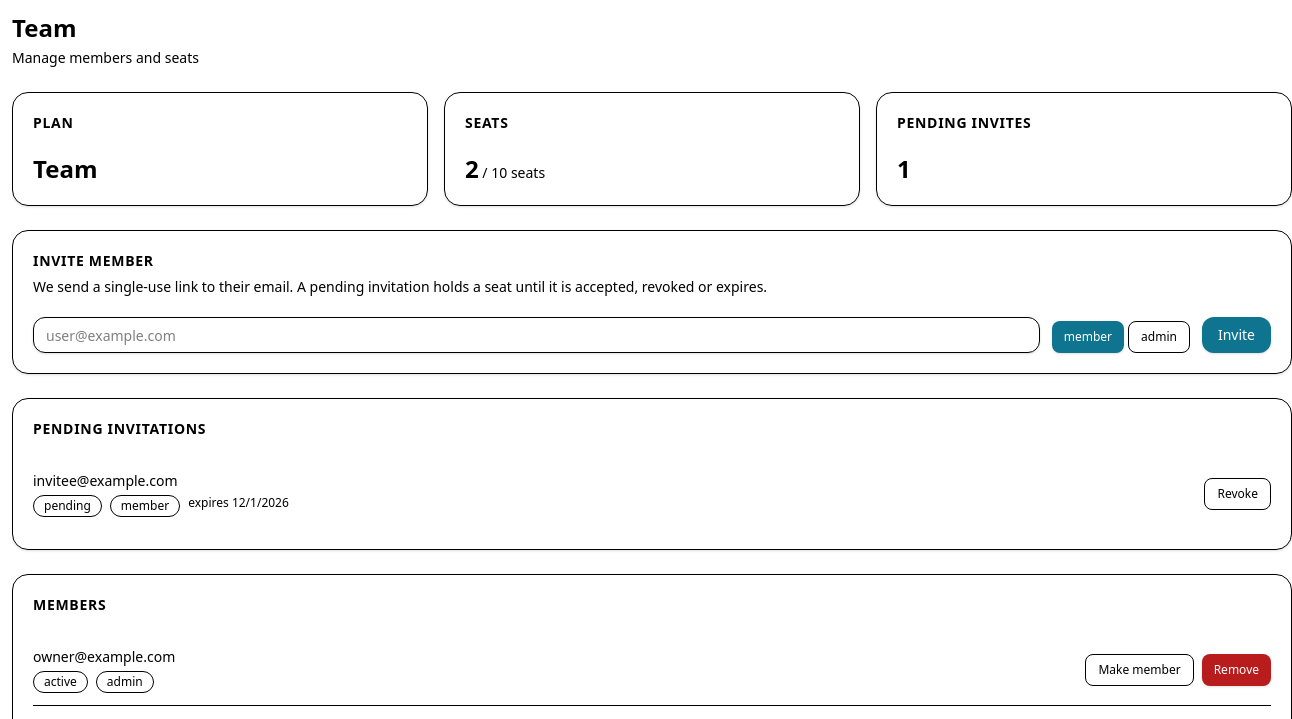
Test case: TeamPage › requires an email before inviting
This screenshot has width=1292, height=719.
Click the button "Invite": (1236, 335) [1202, 317, 1271, 353]
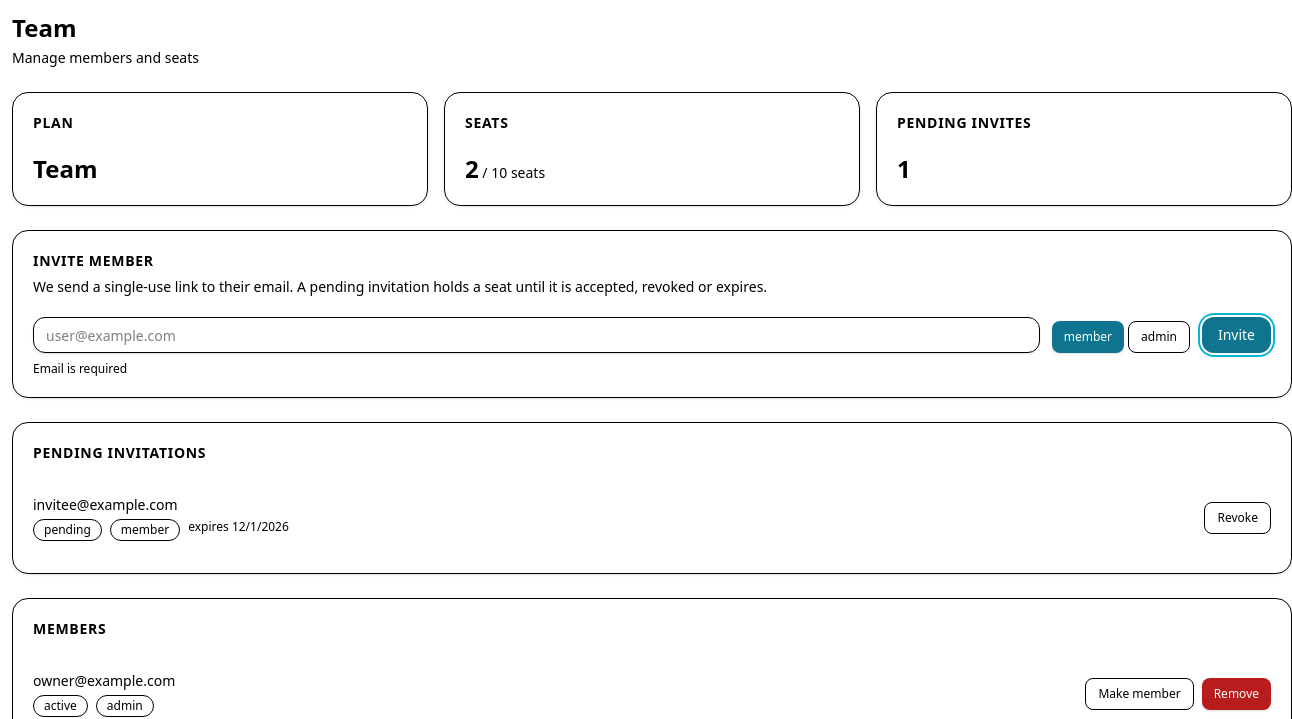
Check: the message reads "Email is required", box [33, 360, 127, 377]
